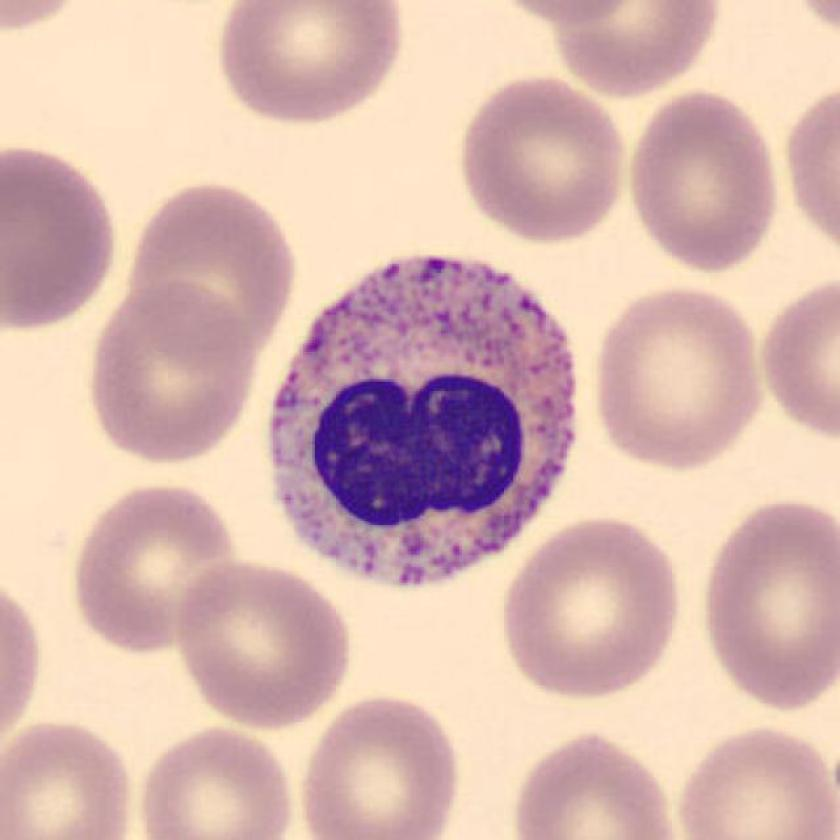neutrophil: (272, 255, 574, 583)
